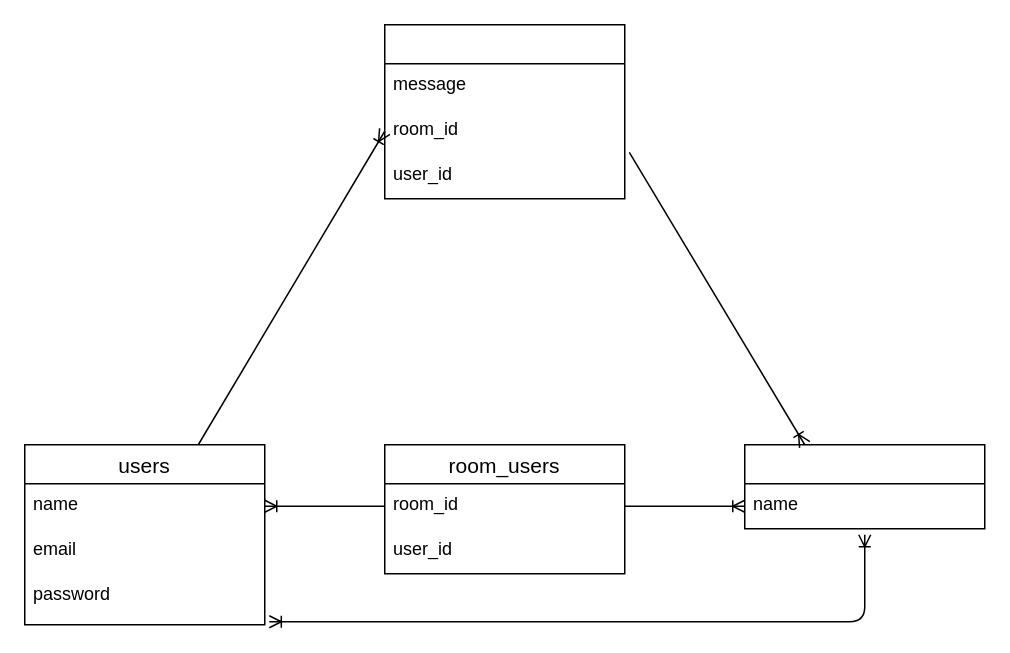
Some shapes in this 1010 by 653 pixel diagram are drawn without their labels. Here are the shapes that lost their labels. From the top down, the box of each, then its label:
(383, 23, 625, 199): messages
(743, 443, 985, 529): rooms
